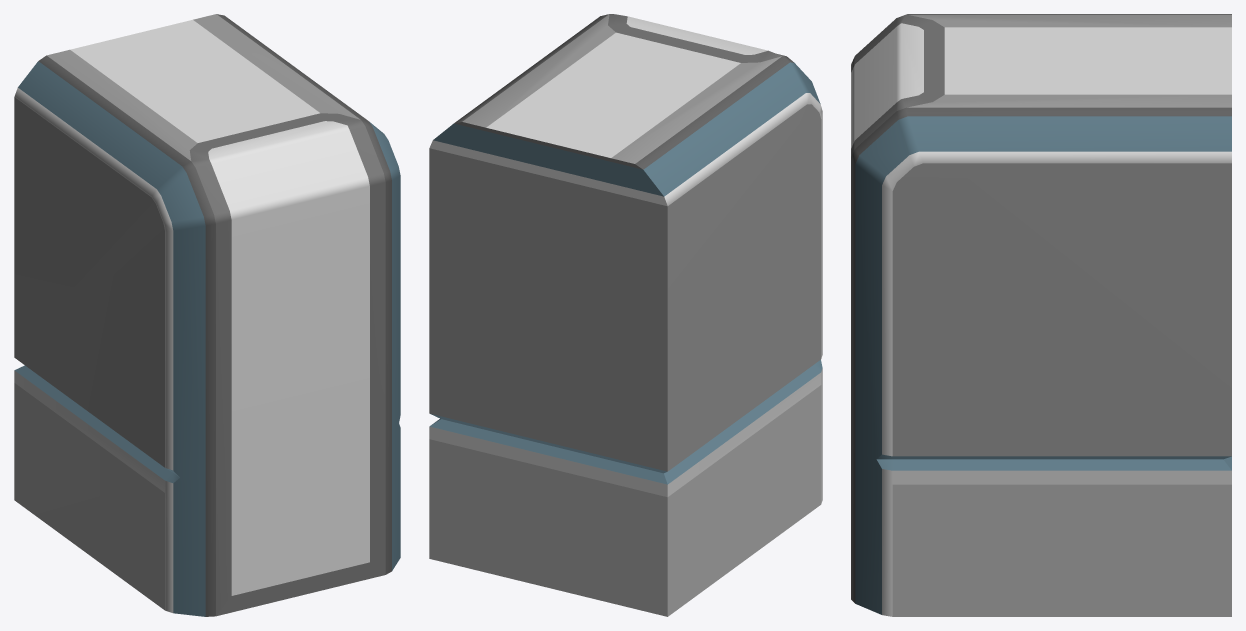
The model's file is space_station_016.fbx.
The picture shows the model from 3 angles, left to right: view 1: azimuth 30°, elevation 25°; view 2: azimuth 150°, elevation 25°; view 3: azimuth 270°, elevation 25°; orthographic projection. The views are drawn at different scales.
Parts seen in each view (by area): view 1: space_station_016; view 2: space_station_016; view 3: space_station_016.
Boxes of the visible parts, x1=… form: space_station_016: x1=14, y1=14, x2=400, y2=616; space_station_016: x1=429, y1=14, x2=822, y2=616; space_station_016: x1=851, y1=14, x2=1231, y2=616.
Size of the model in its own units: 1543 by 1932 by 2751.
